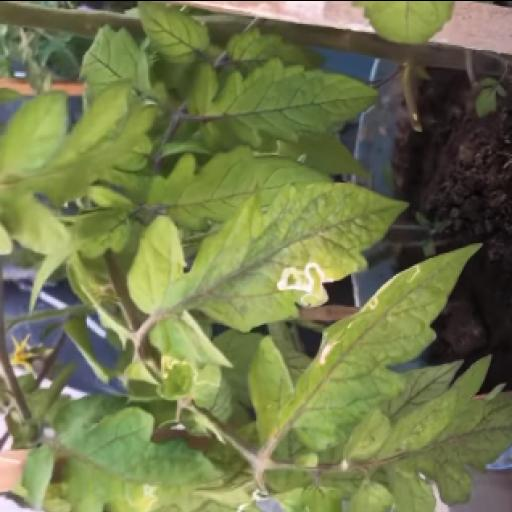Leaf Miner: (125, 180, 409, 366)
